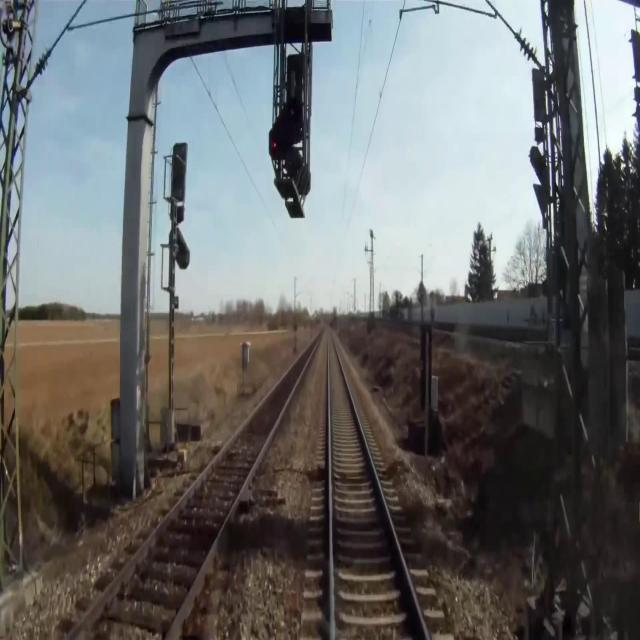rail-track: (70, 341, 316, 639), (329, 332, 425, 639)
